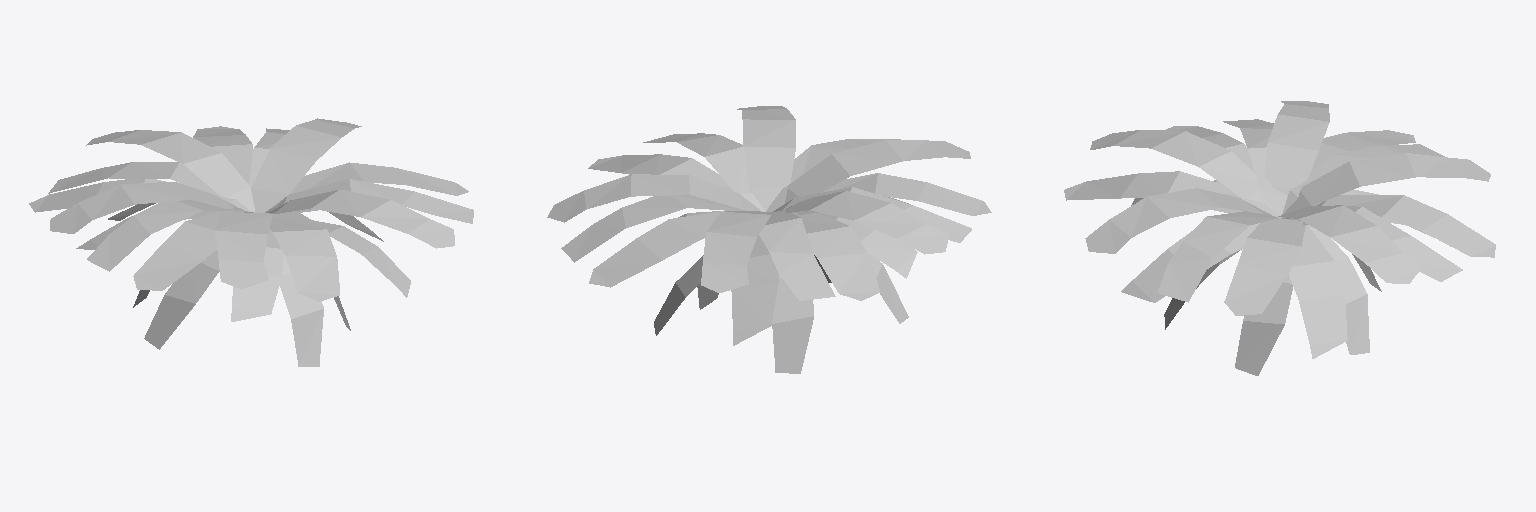
File: palm2.obj
3 renders of one model, left to right at view 1: azimuth 30°, elevation 25°; view 2: azimuth 150°, elevation 25°; view 3: azimuth 270°, elevation 25°, orthographic.
Visible parts, largest first — view 1: Object_70; view 2: Object_70; view 3: Object_70.
Part boxes in pixels (x1,y1,x2,y2): Object_70: (29,118,473,366); Object_70: (547,106,991,373); Object_70: (1064,101,1495,375).
Bounding box in the file's own units: 30.66 × 12.52 × 29.91.